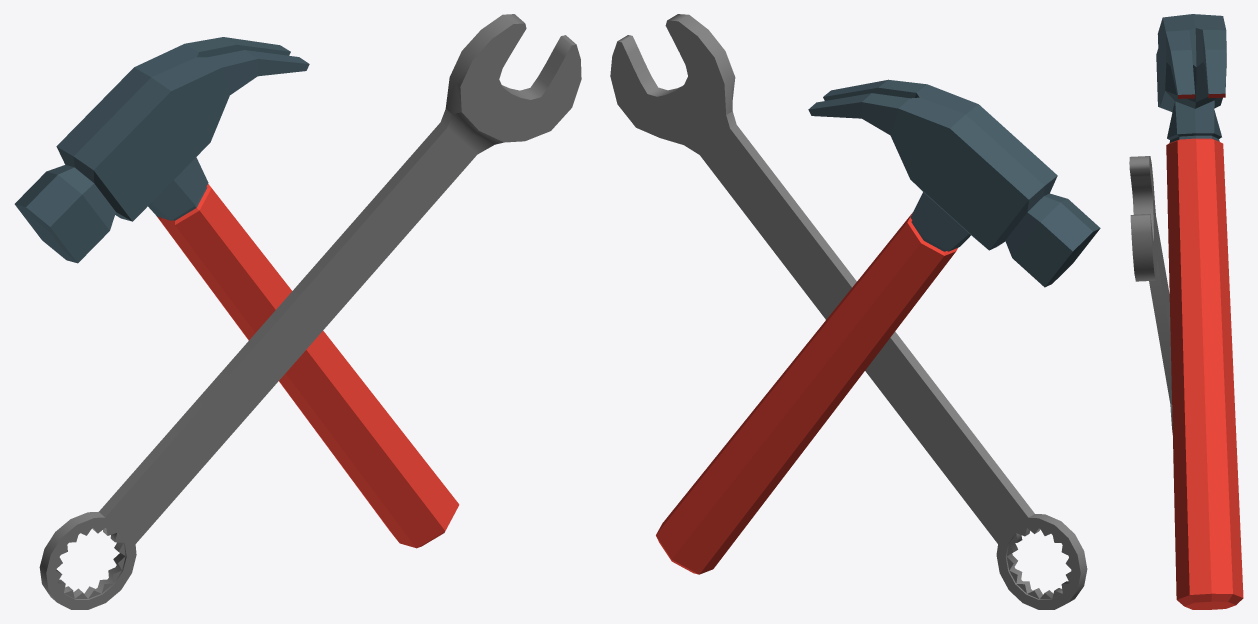
Rendered from hammerwrench.glb.
3 views of the same model, side by side, from view 1: azimuth 30°, elevation 25°; view 2: azimuth 150°, elevation 25°; view 3: azimuth 270°, elevation 25° (orthographic). The views are drawn at different scales.
Visible parts, largest first — view 1: Buffer Layer (×2), Wrench; view 2: Buffer Layer (×2), Wrench; view 3: Buffer Layer (×2), Wrench.
Part boxes in pixels (x1,y1,x2,y2): Buffer Layer (×2): (14, 37, 459, 548); Wrench: (39, 14, 581, 609); Buffer Layer (×2): (656, 79, 1100, 574); Wrench: (610, 14, 1087, 609); Buffer Layer (×2): (1156, 14, 1243, 609); Wrench: (1129, 156, 1172, 434).
Bounding box in the file's own units: 0.0286 × 0.0283 × 0.00601.
